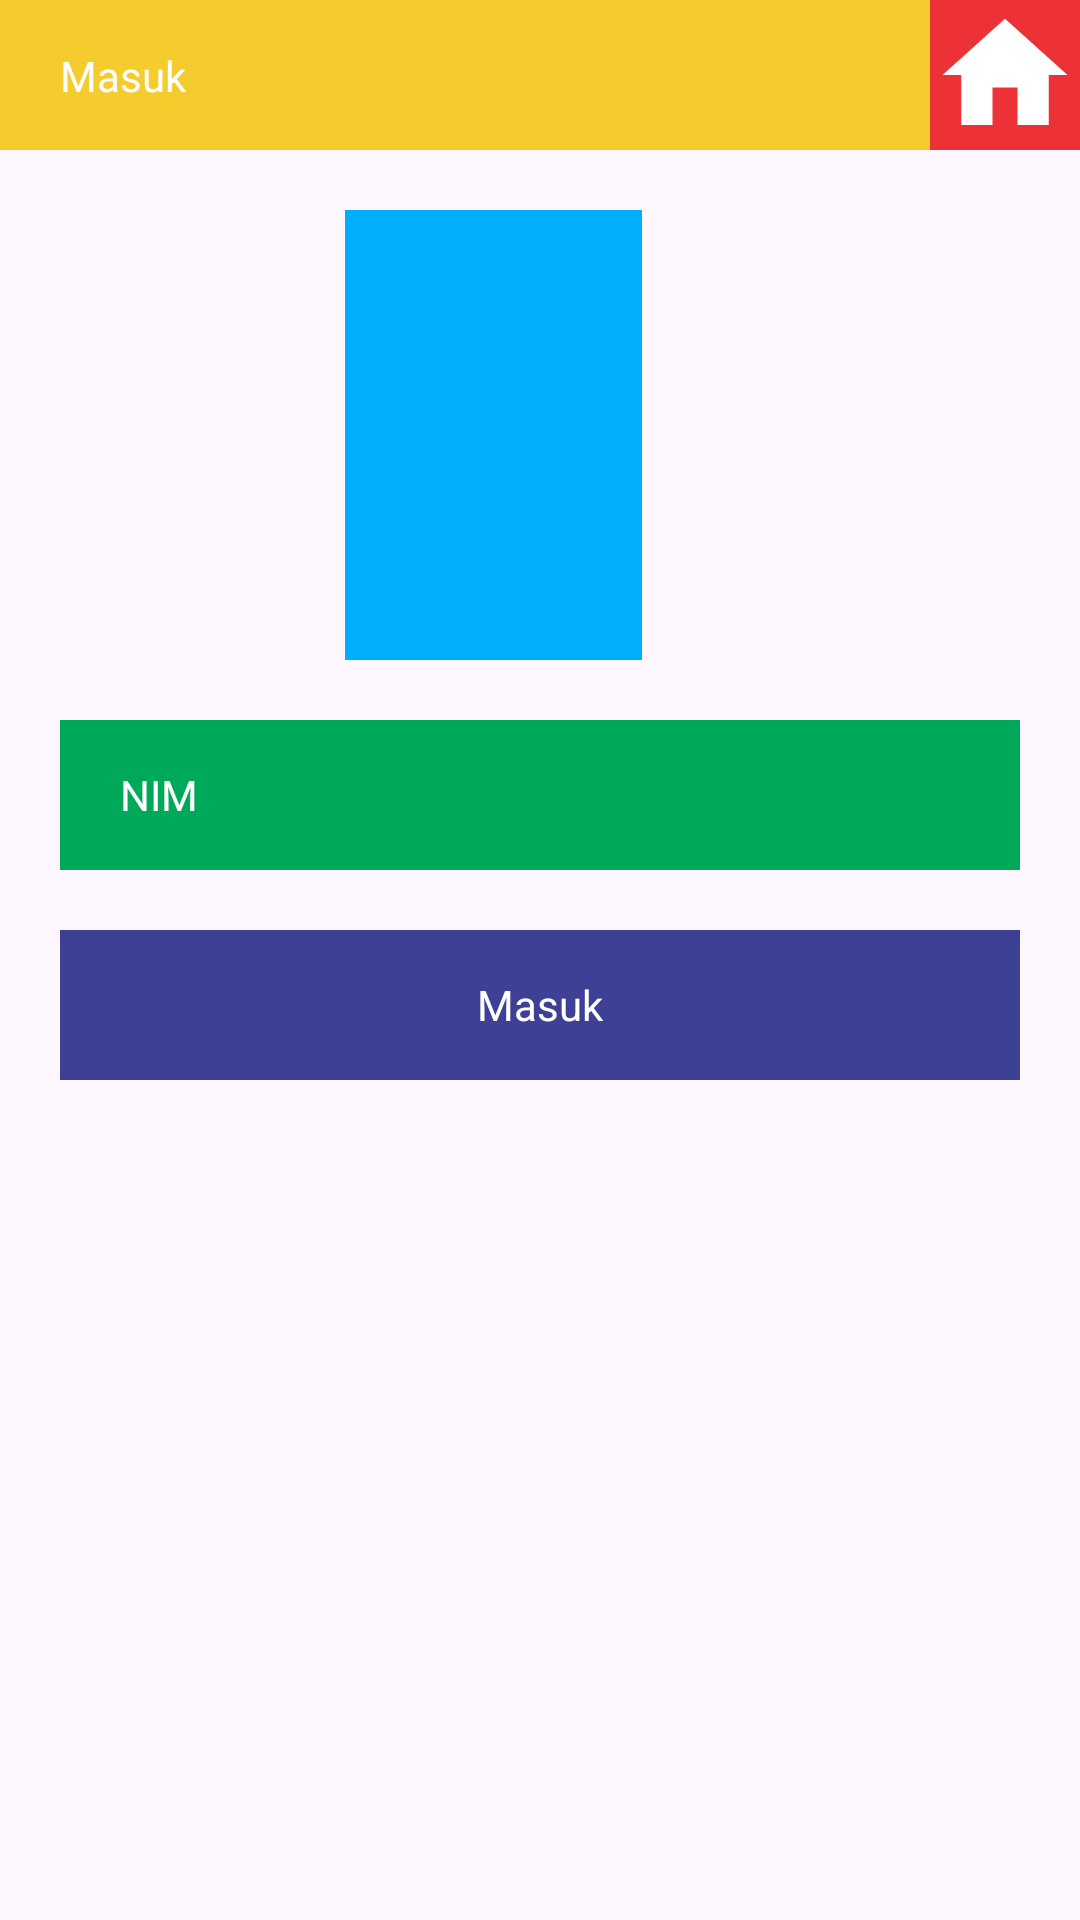

Where to tap for icons on this 1080 x 1920 app screen, as (x,y):
home: (1005,75)
